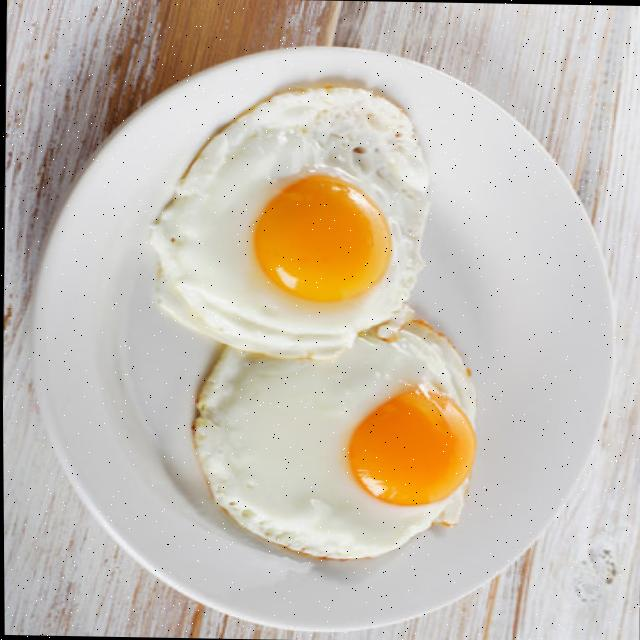Egg: (150, 86, 426, 360), (150, 87, 426, 357), (193, 319, 474, 559), (193, 319, 473, 559), (193, 319, 473, 559)
